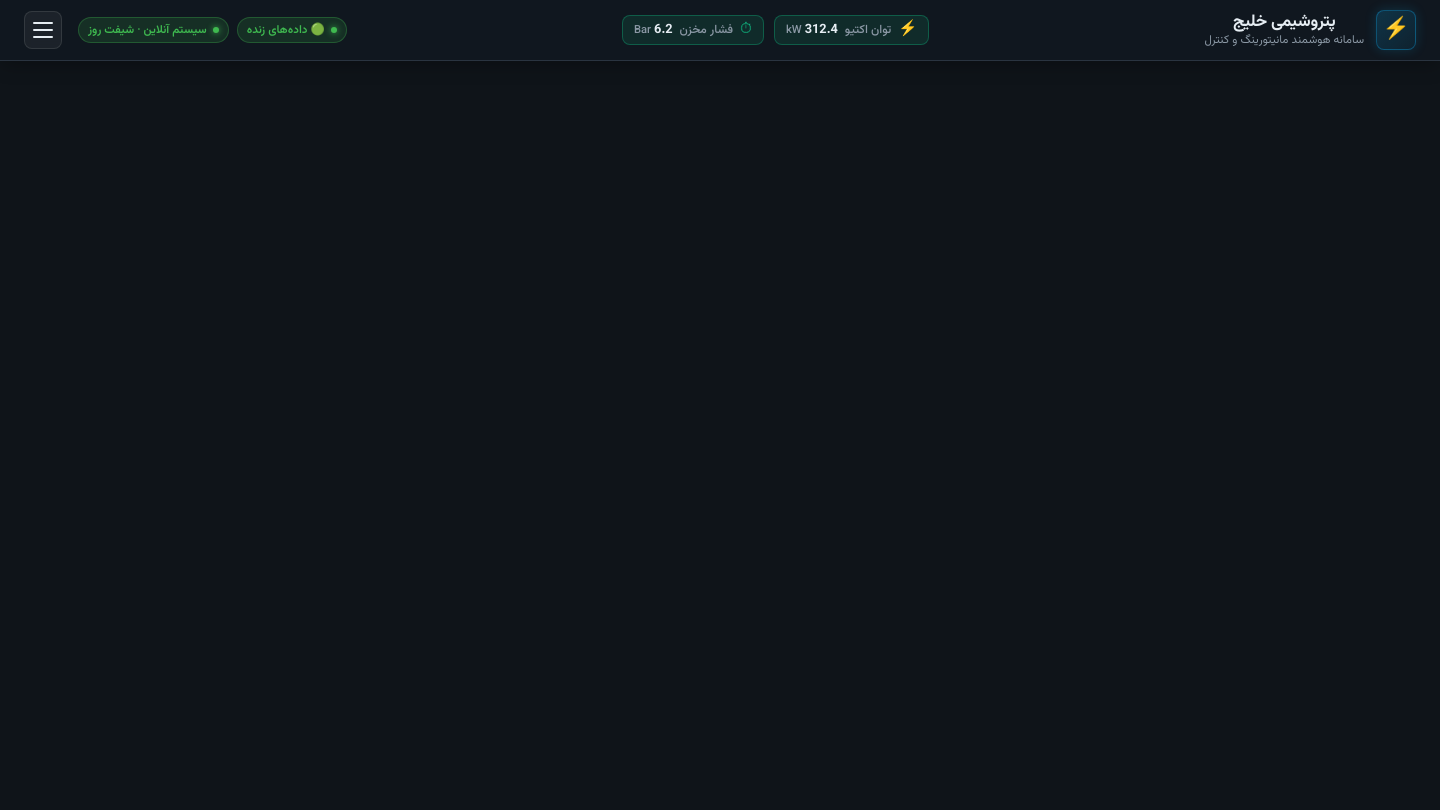
Test case: site layout components › supports hamburger menu toggle, opens drawer via portal into document.body, and closes with escape key
Later steps or results of the test are not shown.
Click the button named "باز و بستن منو": (43, 30) [24,11,62,49]
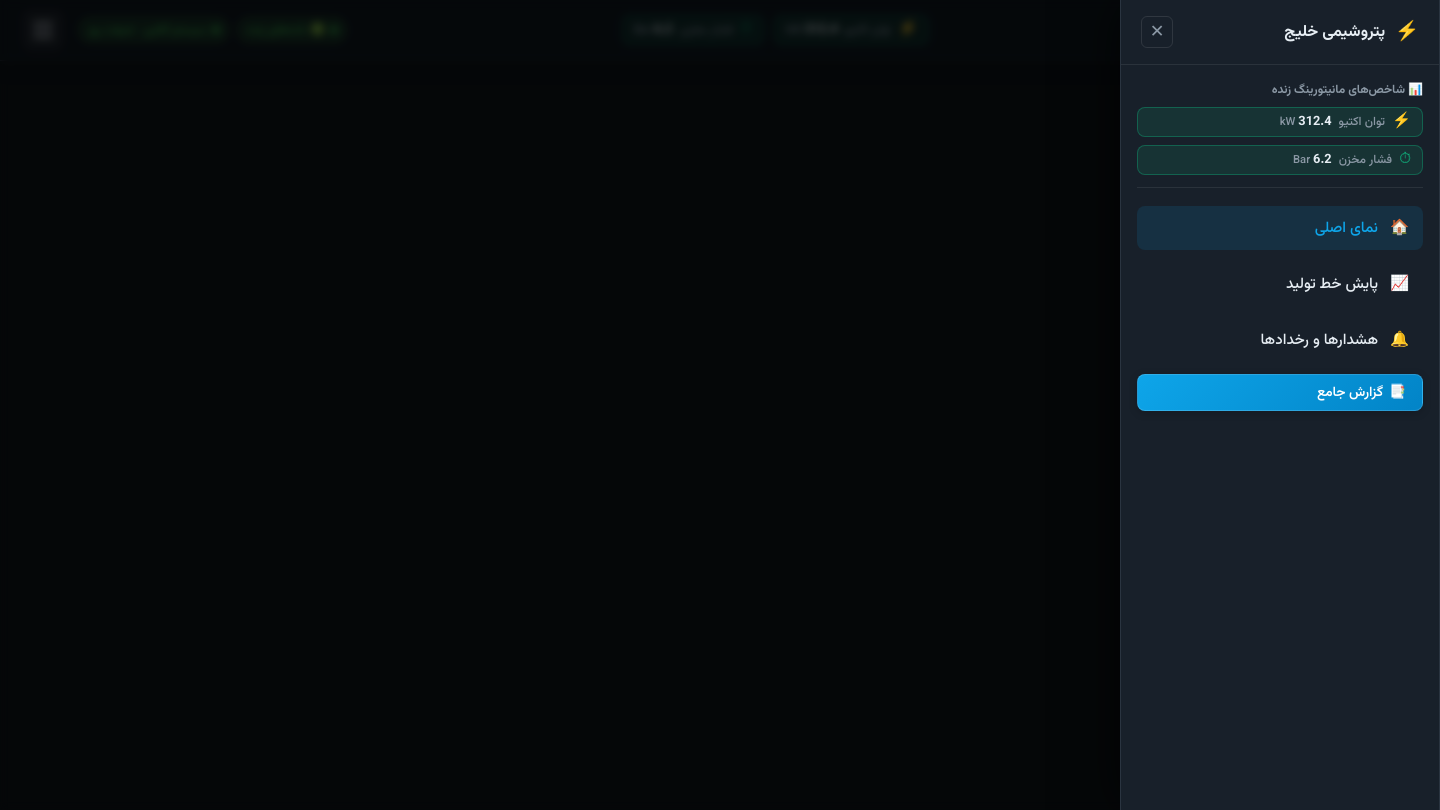
Expected: the dialog is shown, [1120,0,1439,809]
Expected: the button named "بستن منو" is shown, [1141,16,1173,48]
Expected: the text "📊 شاخص‌های مانیتورینگ زنده" is shown, [1272,81,1423,99]
